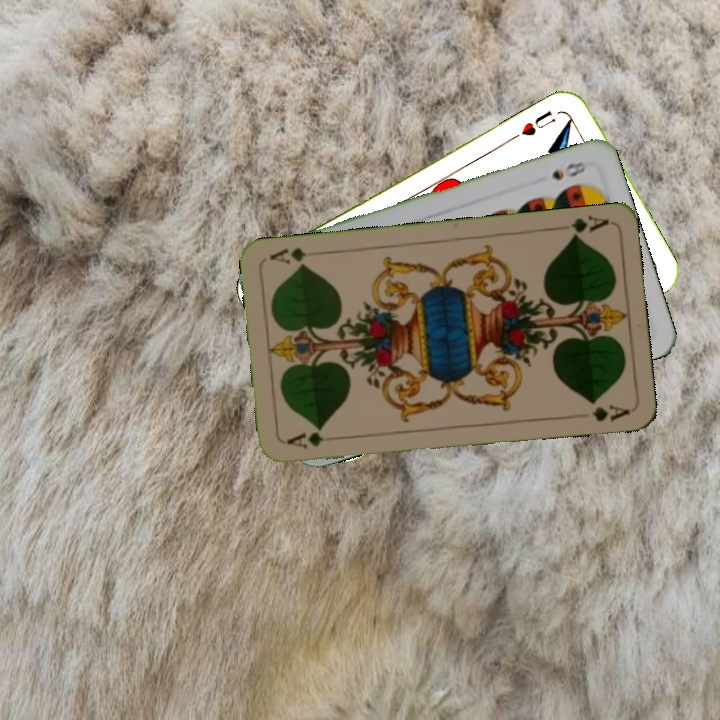GA: (552, 212, 612, 242), (283, 426, 327, 451)
HU: (517, 106, 559, 139)
S8: (547, 157, 588, 183)
